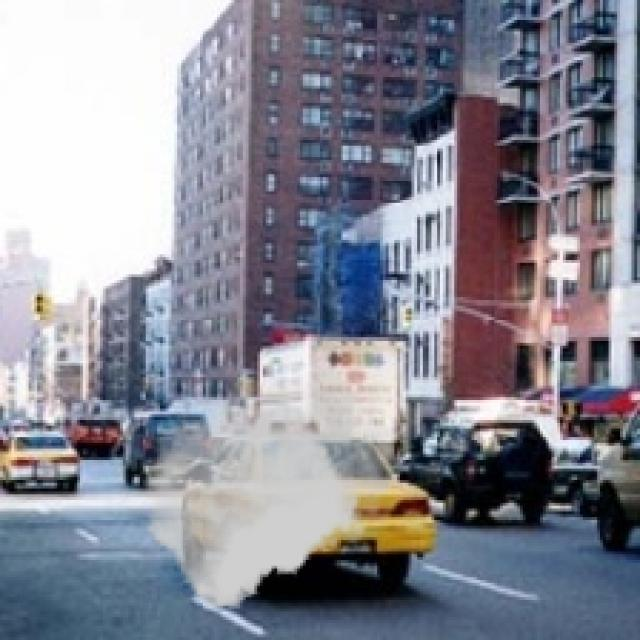Smoke: (143, 372, 394, 608)
